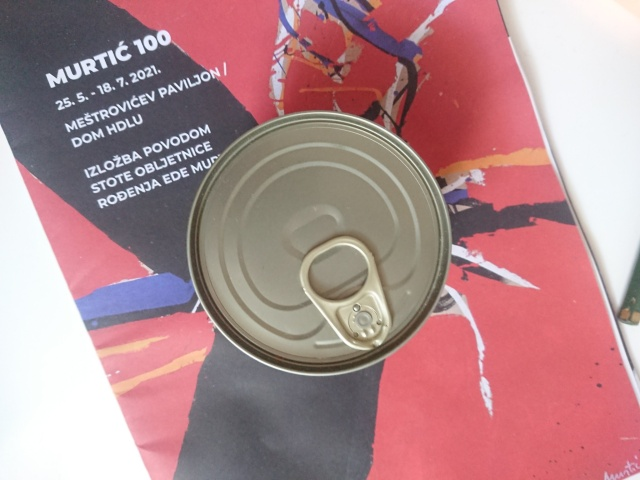Gavrilovic Pork Liver Pate 100g: (181, 106, 456, 380)
